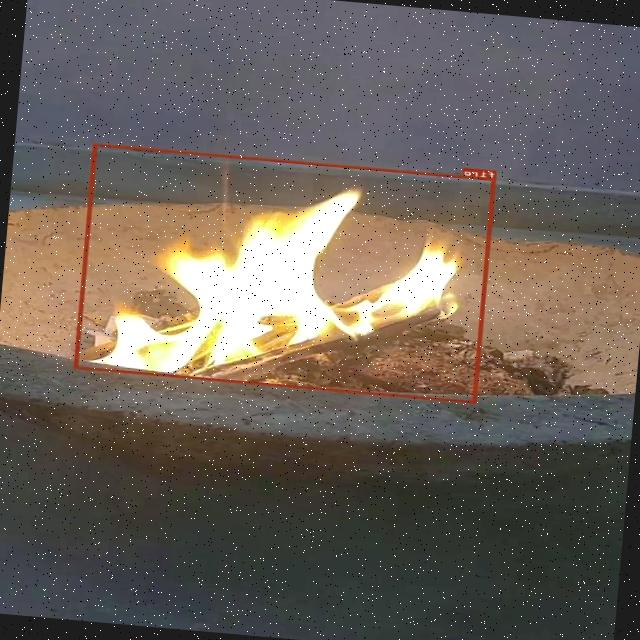fire: (74, 144, 497, 402)
